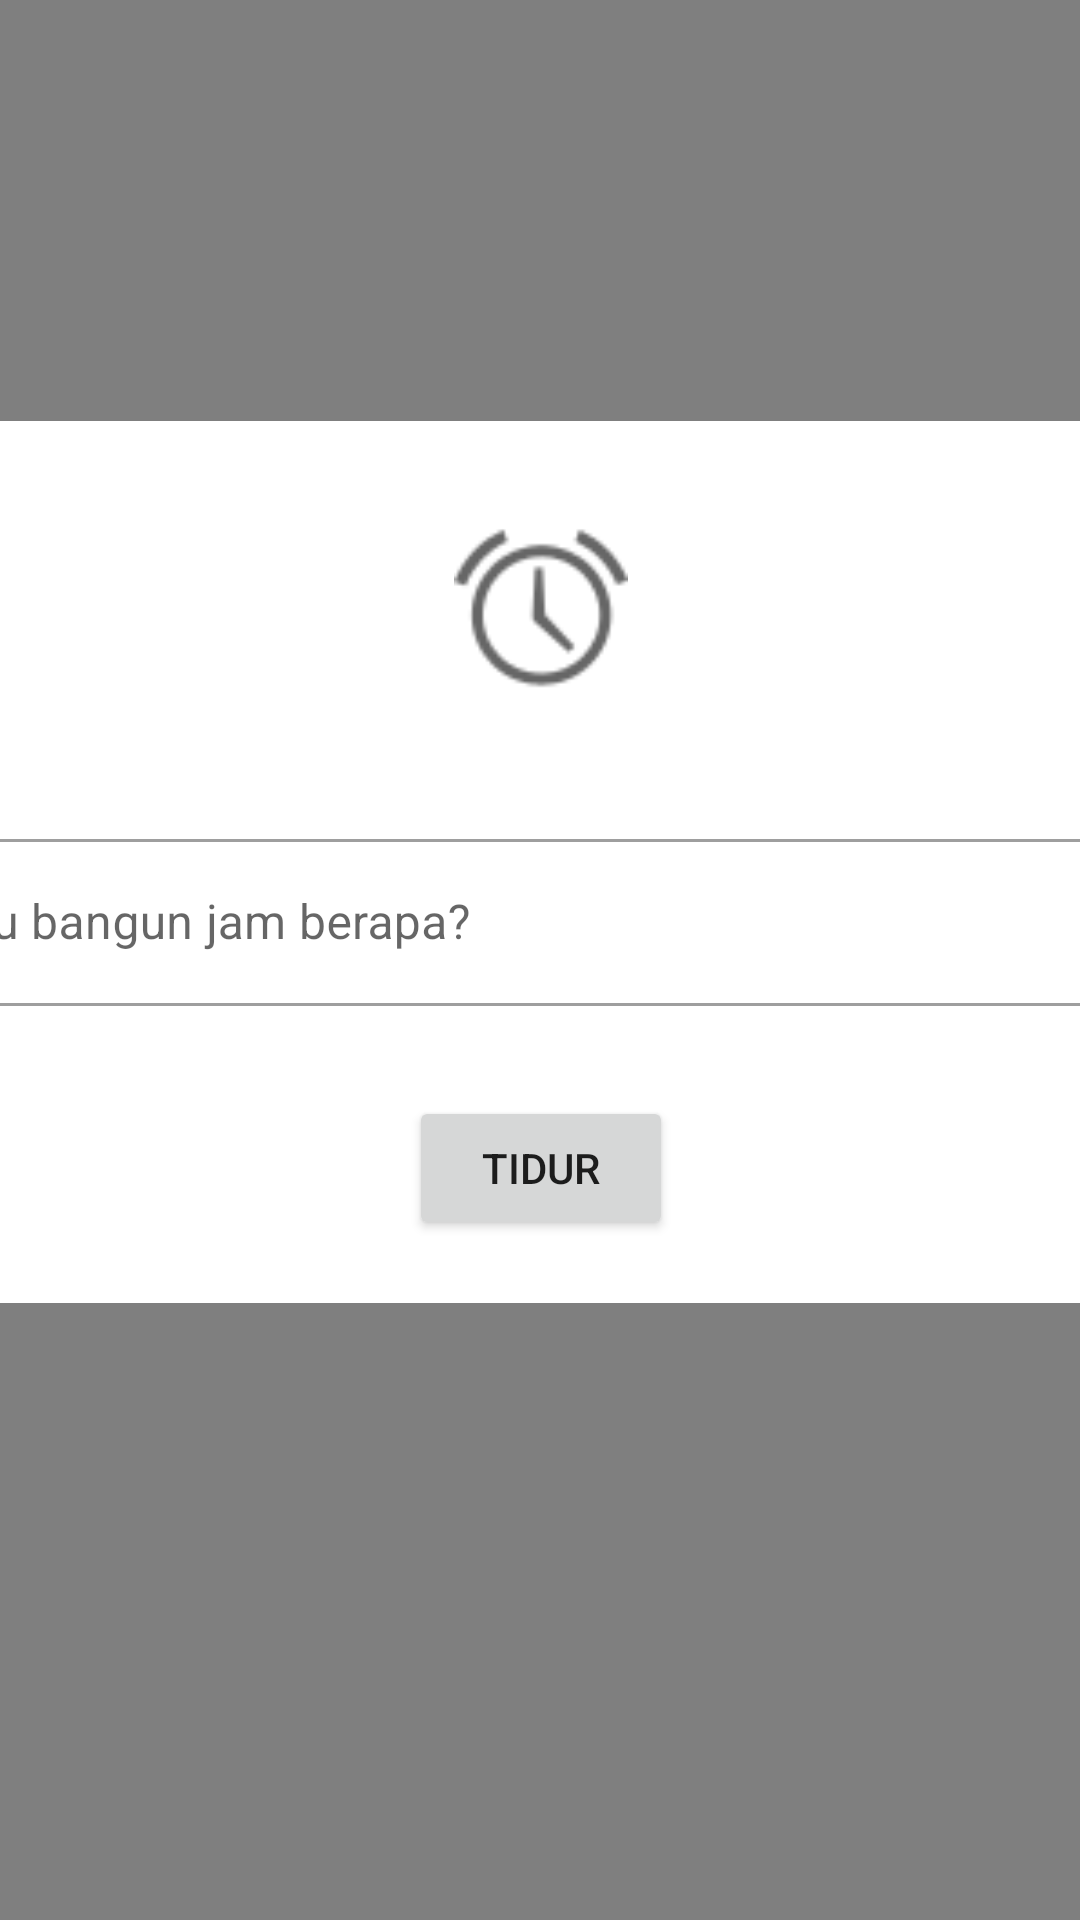

Screen size 1080 x 1920. Icon name, then its box in pixels as (x1, y1, x2, y2):
lock idle alarm: (454, 529, 628, 687)
